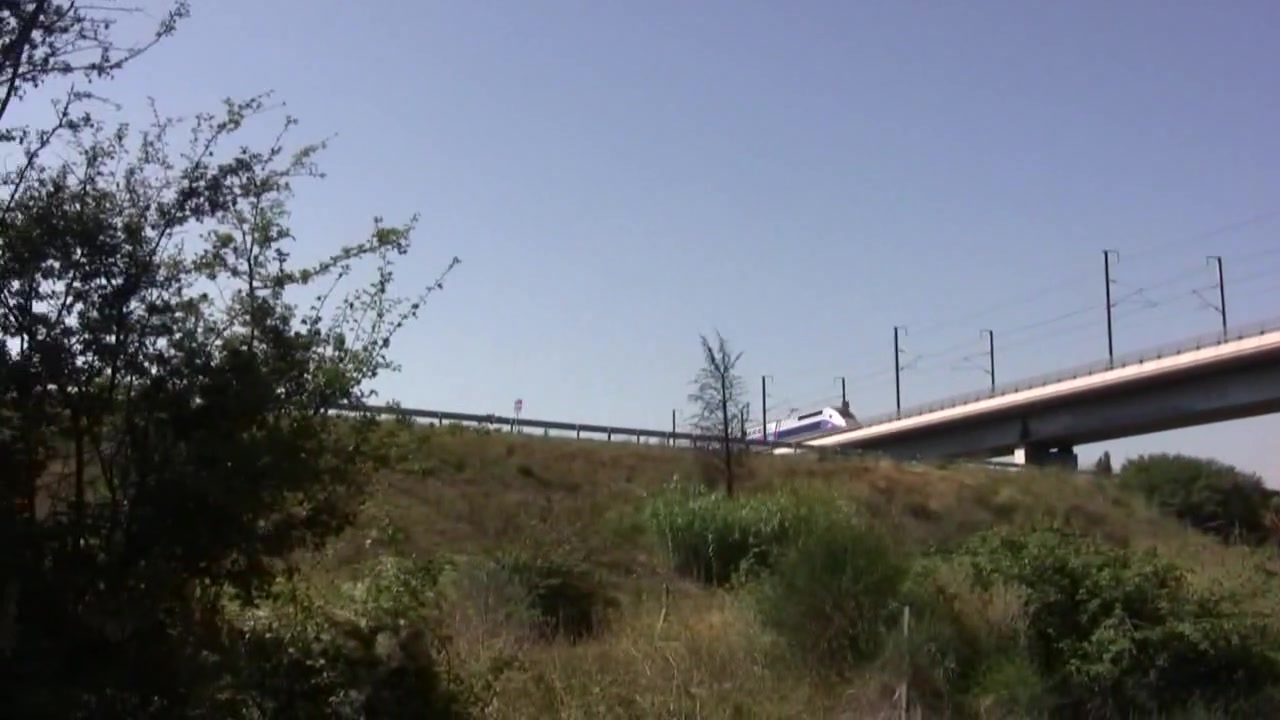train: (735, 405, 870, 452)
